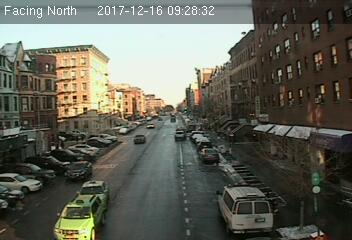car: (54, 193, 108, 240), (63, 159, 93, 182), (80, 179, 108, 199), (199, 148, 218, 162), (133, 134, 146, 145), (174, 130, 187, 141)
police: (217, 180, 274, 237)
